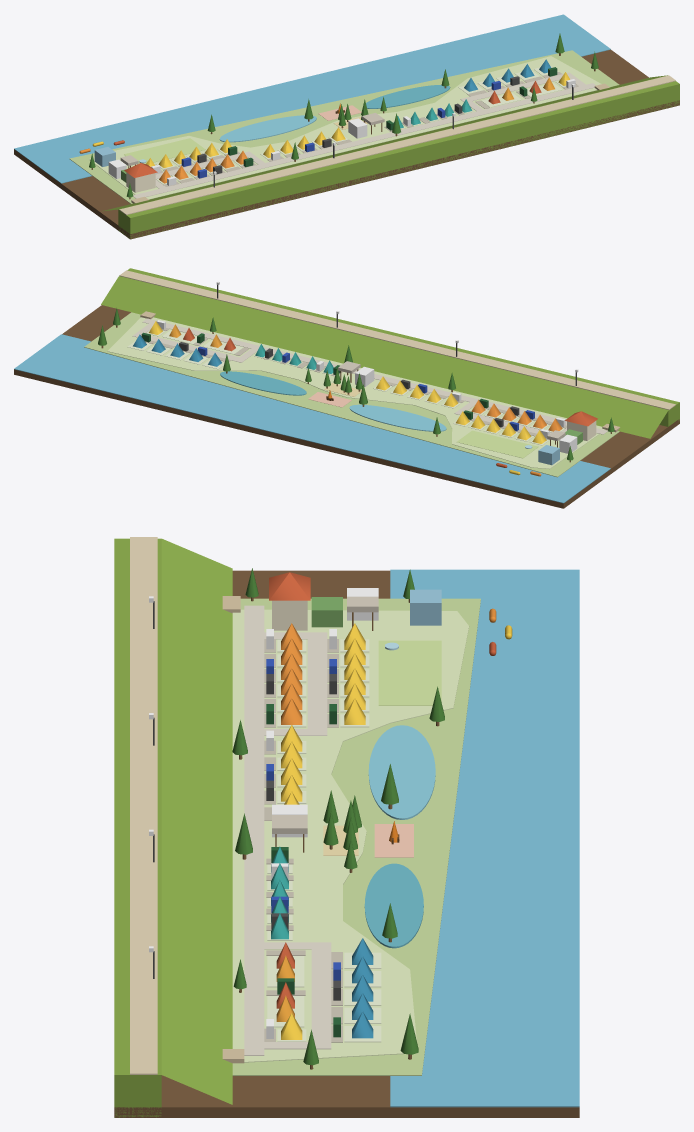
File: camp.glb
The picture shows the model from 3 angles, top to bottom: view 1: azimuth 30°, elevation 25°; view 2: azimuth 150°, elevation 25°; view 3: azimuth 270°, elevation 25°; orthographic projection. The views are drawn at different scales.
Visible parts, largest first — view 1: setoriba_camp; view 2: setoriba_camp; view 3: setoriba_camp.
Boxes of the visible parts, <box> form: setoriba_camp: <box>14,14,679,239</box>; setoriba_camp: <box>14,268,679,508</box>; setoriba_camp: <box>114,537,579,1117</box>.
Size of the model in its own units: 0.7156 by 0.0471 by 0.2622.
